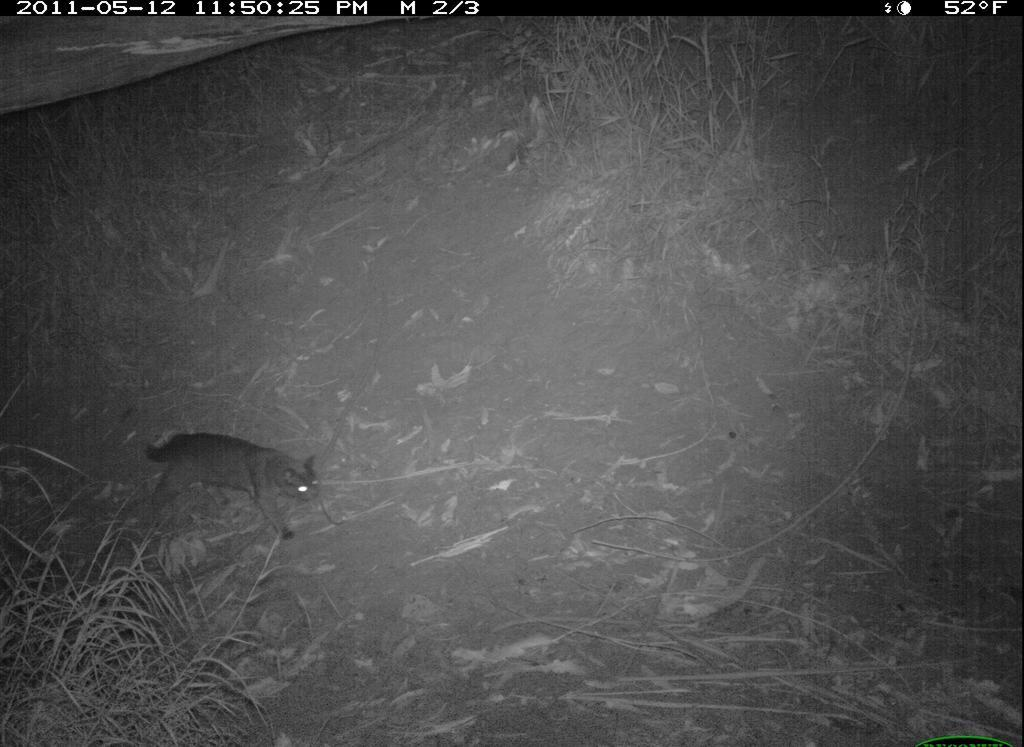cat: (142, 429, 325, 541)
